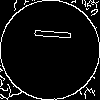I: (25, 25, 71, 43)
